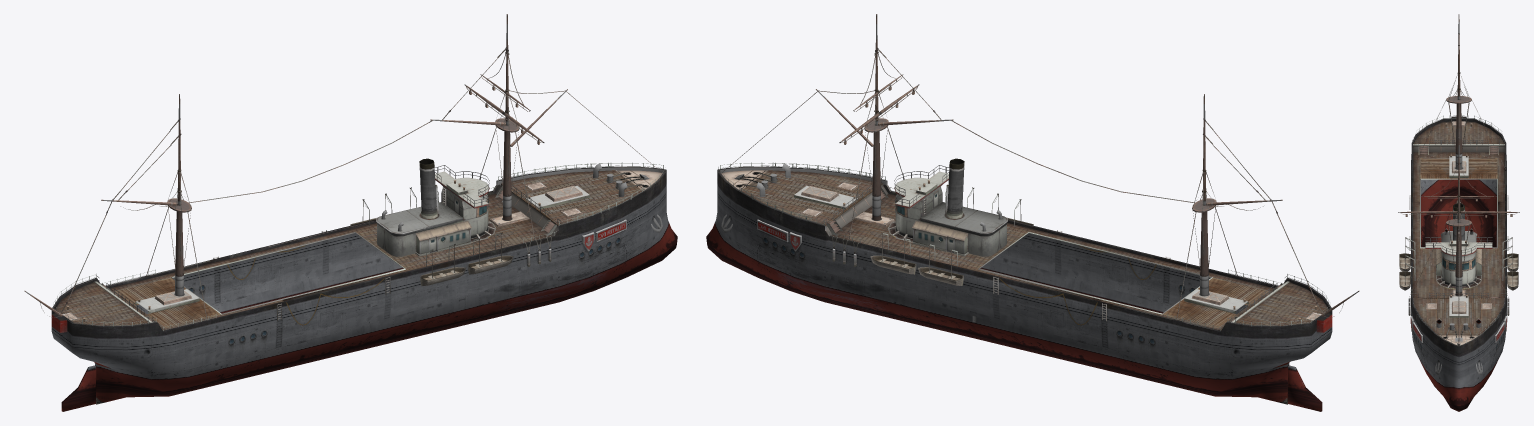
File: tourism_ship_02_lod0.obj
3 renders of one model, left to right at view 1: azimuth 30°, elevation 25°; view 2: azimuth 150°, elevation 25°; view 3: azimuth 270°, elevation 25°, orthographic. The views are drawn at different scales.
Parts seen in each view (by area): view 1: tourism_ship_02_lod0; view 2: tourism_ship_02_lod0; view 3: tourism_ship_02_lod0.
Part boxes in pixels (x1,y1,x2,y2): tourism_ship_02_lod0: (24,14,677,411); tourism_ship_02_lod0: (706,14,1359,411); tourism_ship_02_lod0: (1398,14,1519,411).
Bounding box in the file's own units: 15.34 × 6.43 × 3.17.
